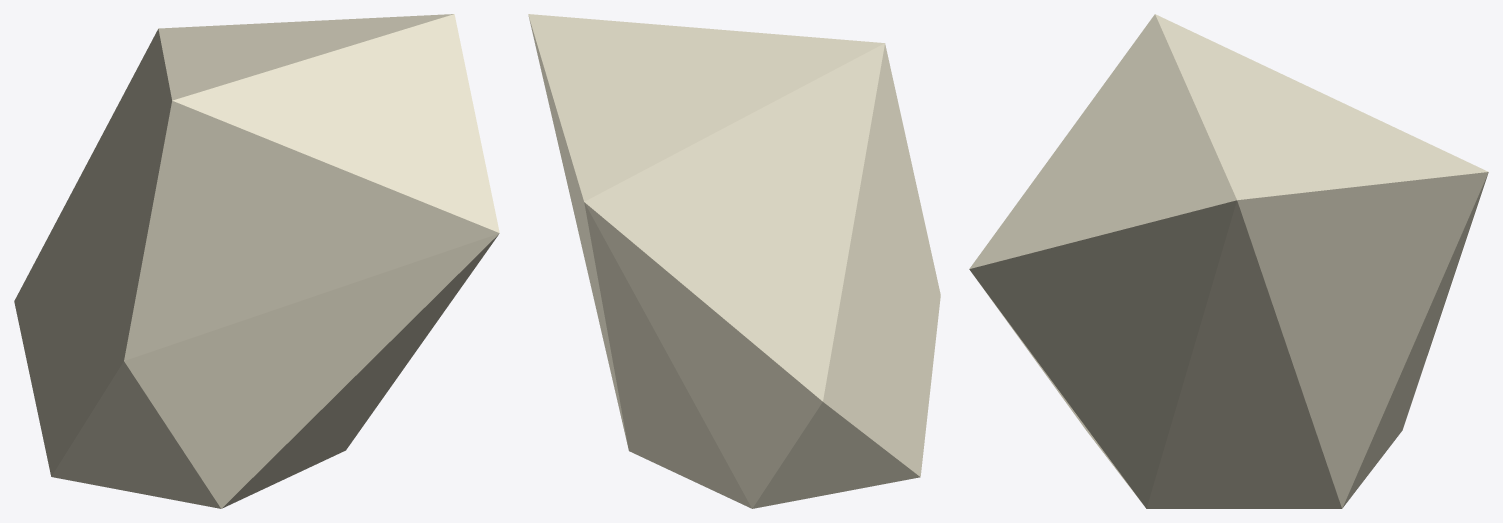
Rendered from rock1.fbx.
3 views of the same model, side by side, from view 1: azimuth 30°, elevation 25°; view 2: azimuth 150°, elevation 25°; view 3: azimuth 270°, elevation 25° (orthographic). The views are drawn at different scales.
Parts seen in each view (by area): view 1: Rock1; view 2: Rock1; view 3: Rock1.
Boxes of the visible parts, box(x1,y1,x2,y2) form: Rock1: box(14, 14, 499, 508); Rock1: box(528, 14, 940, 508); Rock1: box(969, 14, 1488, 508).
Size of the model in its own units: 26.07 by 27.93 by 24.19.
